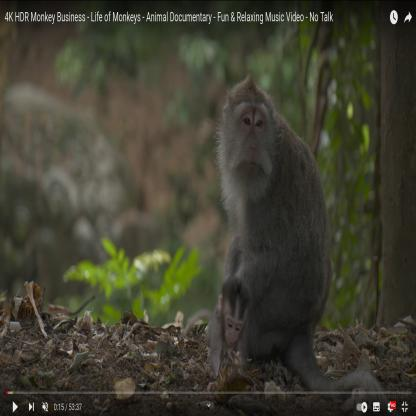monkey: (214, 72, 339, 392)
